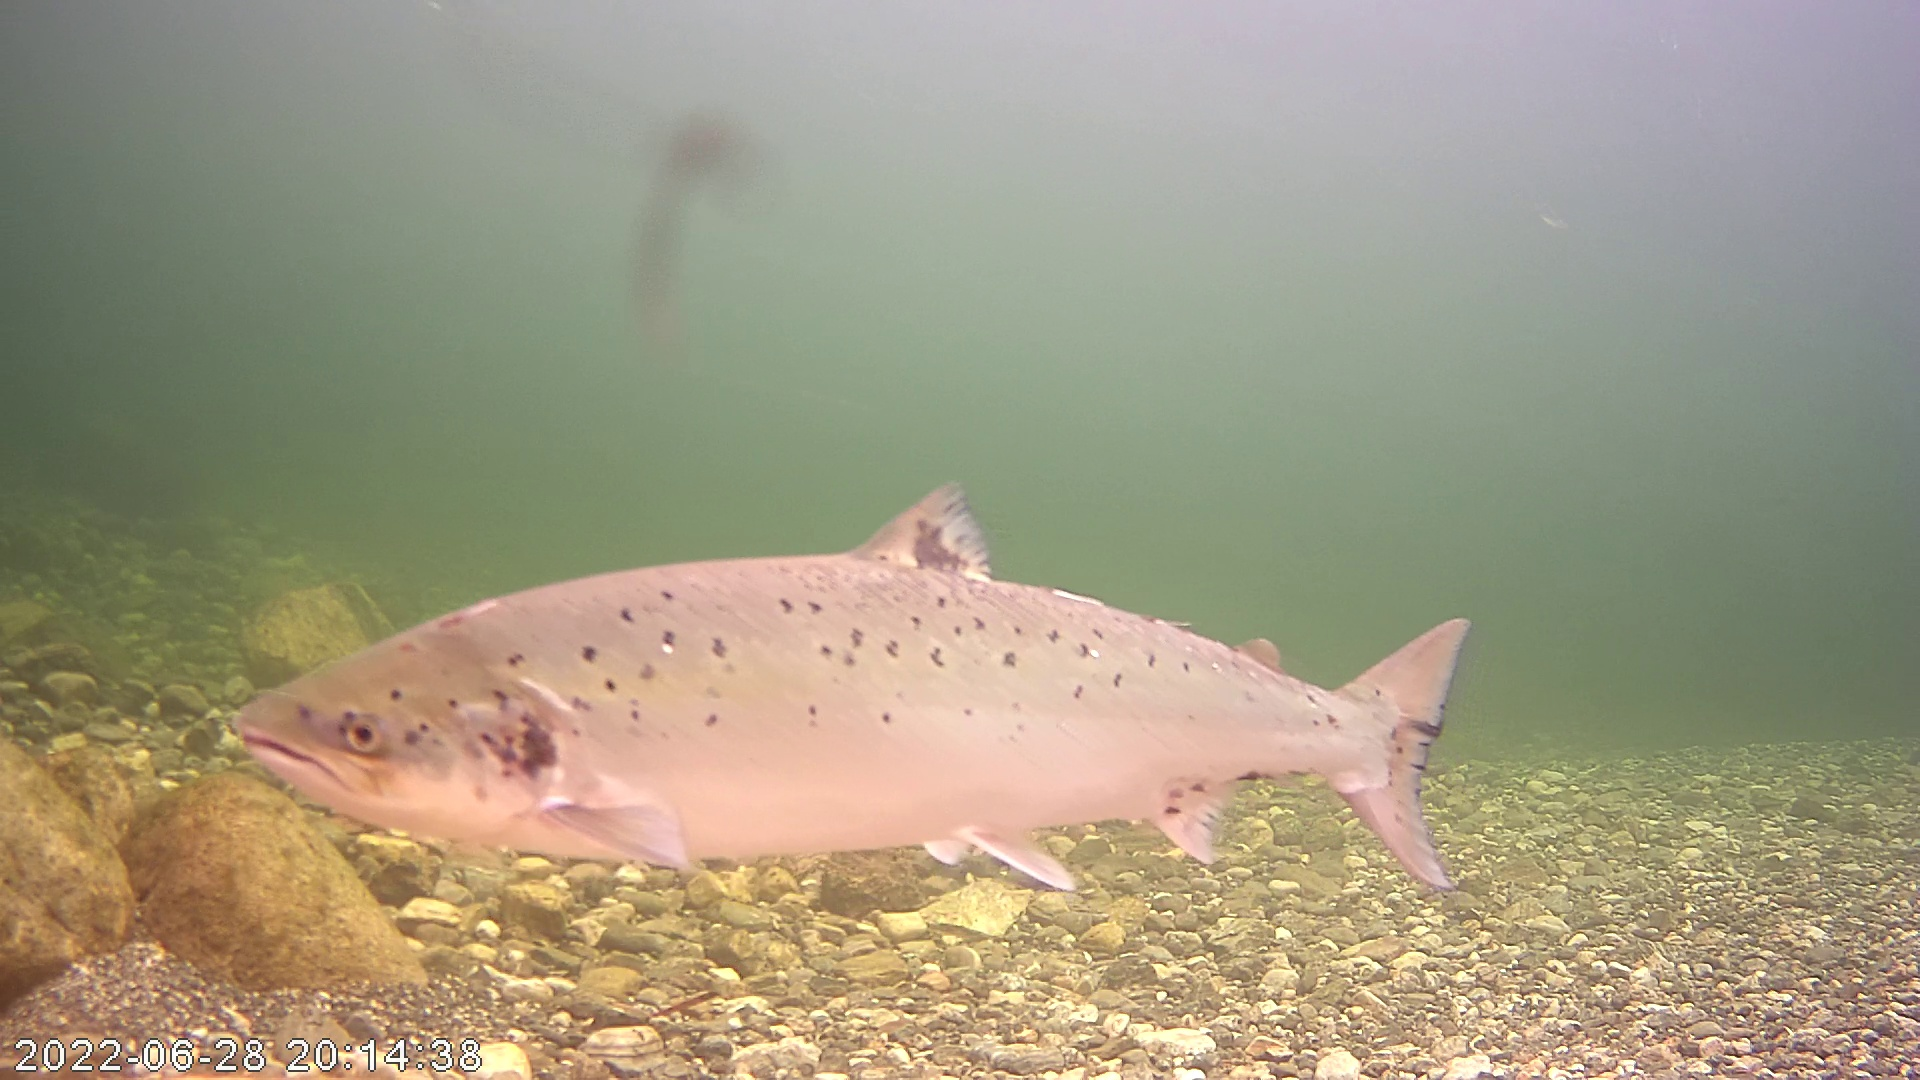salmon: (342, 433, 1491, 897)
